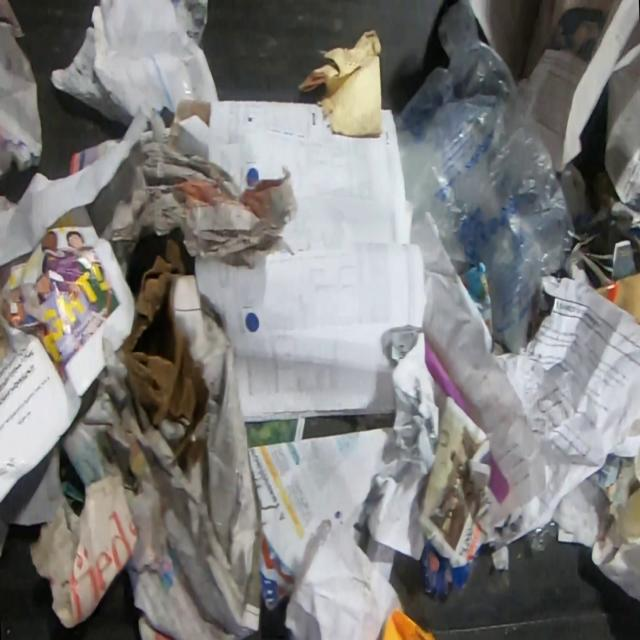cardboard: (118, 221, 210, 477), (589, 262, 640, 335), (420, 540, 481, 596), (609, 200, 640, 261)
soft_plastic: (394, 0, 575, 354)
